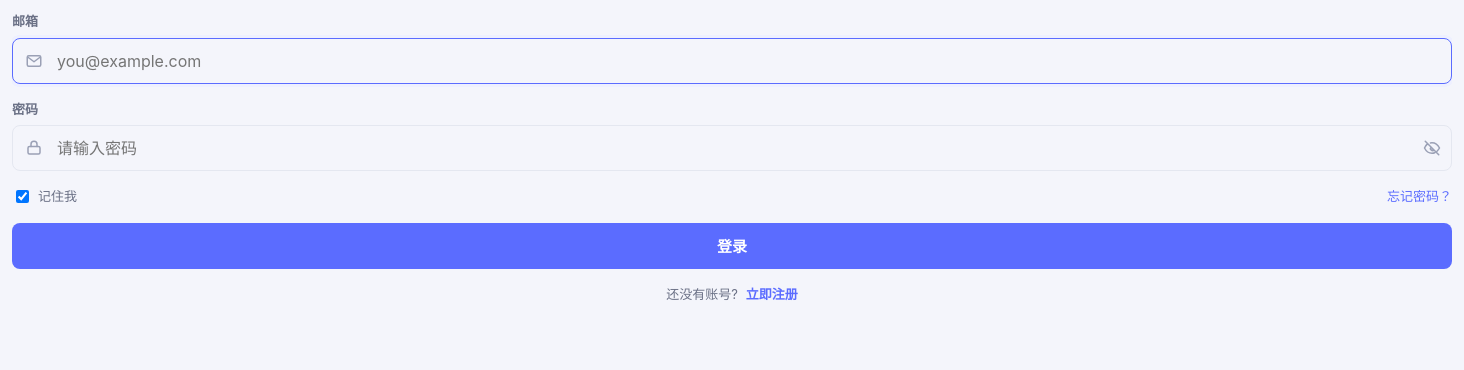
LoginForm.vue › switches to register mode and shows the nickname field
Expected: the submit button reads "登录", [12,222,1452,268]
Click the link "立即注册" at point(772, 294), box [746,286,798,302]
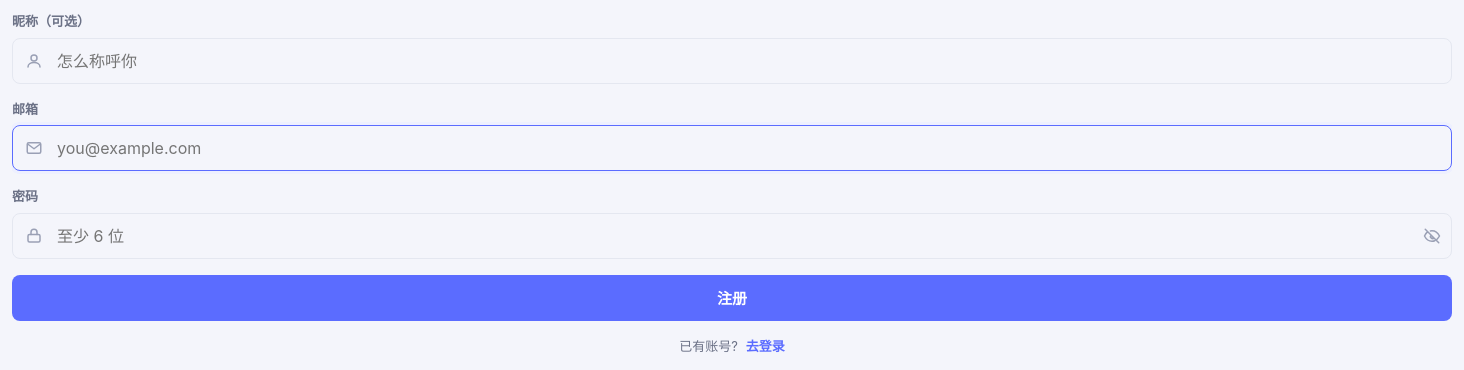
Result: the field labelled "昵称（可选）" is shown at [55,38,1451,82]
Result: the submit button reads "注册" at [12,274,1452,320]
